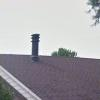Chimney: (23, 28, 44, 71)
